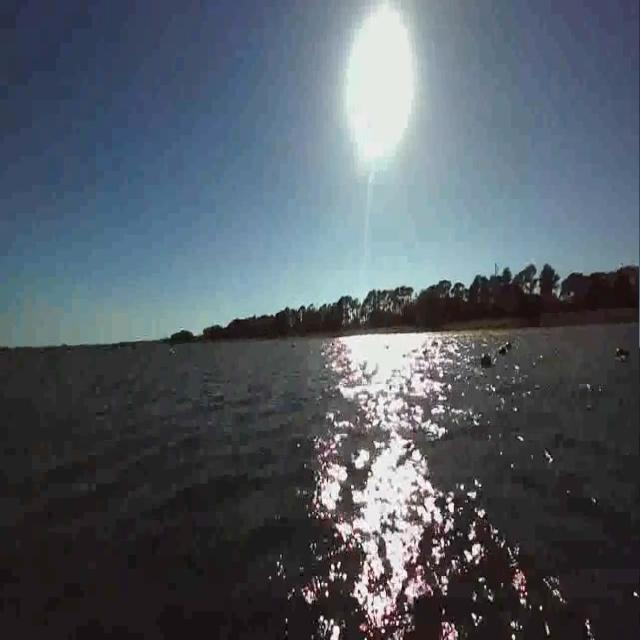black-buoy: (481, 350, 494, 370)
